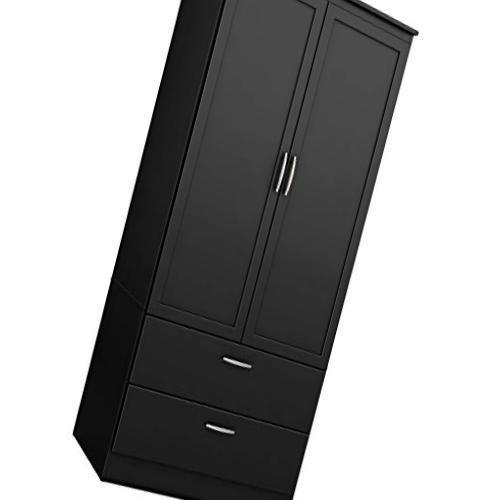Armario: (66, 4, 413, 488)
